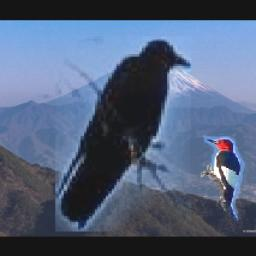Crow: (56, 37, 192, 232)
Woodpecker: (202, 133, 249, 221)
